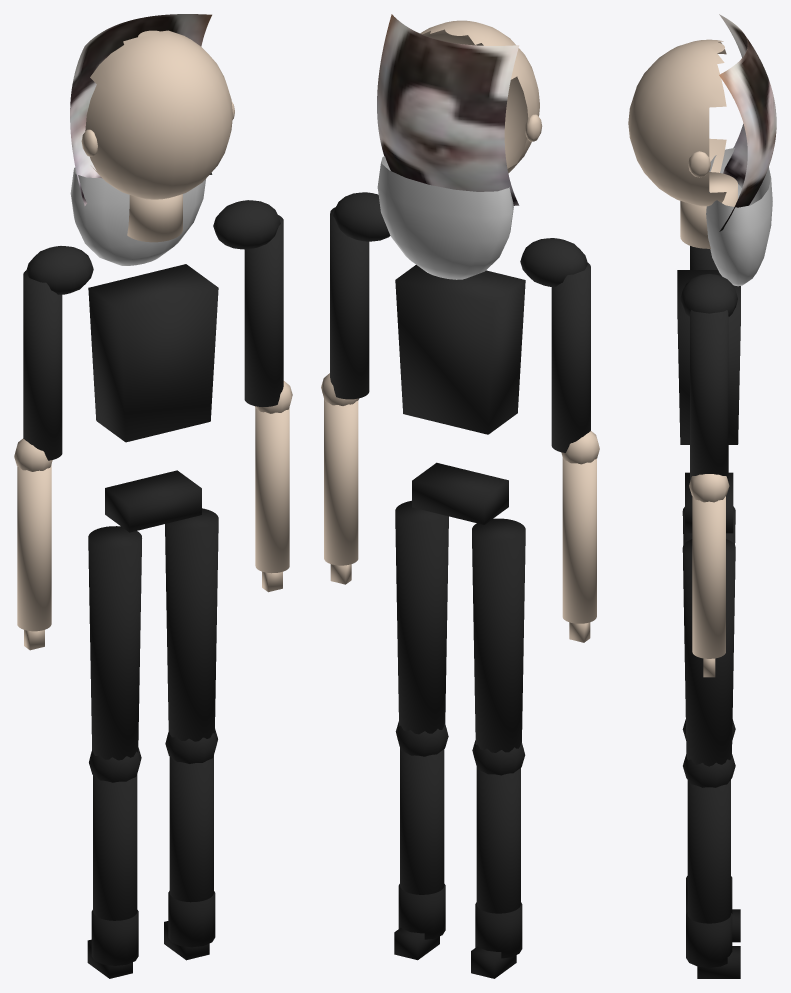
The model's file is villain_tall.glb.
3 renders of one model, left to right at view 1: azimuth 30°, elevation 25°; view 2: azimuth 150°, elevation 25°; view 3: azimuth 270°, elevation 25°, orthographic. The views are drawn at different scales.
Visible parts, largest first — view 1: VillainTall; view 2: VillainTall; view 3: VillainTall.
Boxes of the visible parts, <box> form: VillainTall: <box>14,14,292,978</box>; VillainTall: <box>321,14,599,978</box>; VillainTall: <box>628,14,776,978</box>.
Bounding box in the file's own units: 0.6399 × 2.08 × 0.308.
7 materials, 1 textured.
